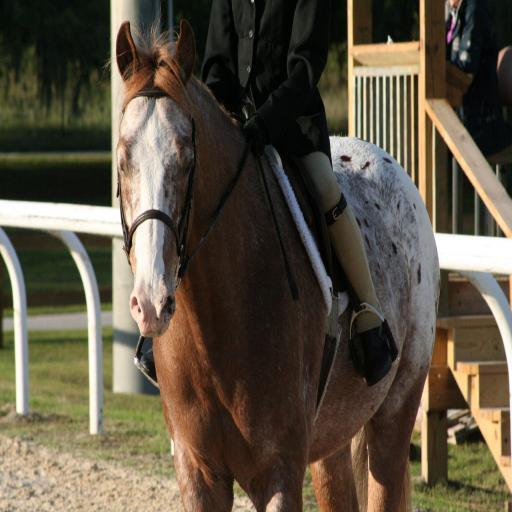horse: (98, 18, 440, 512)
